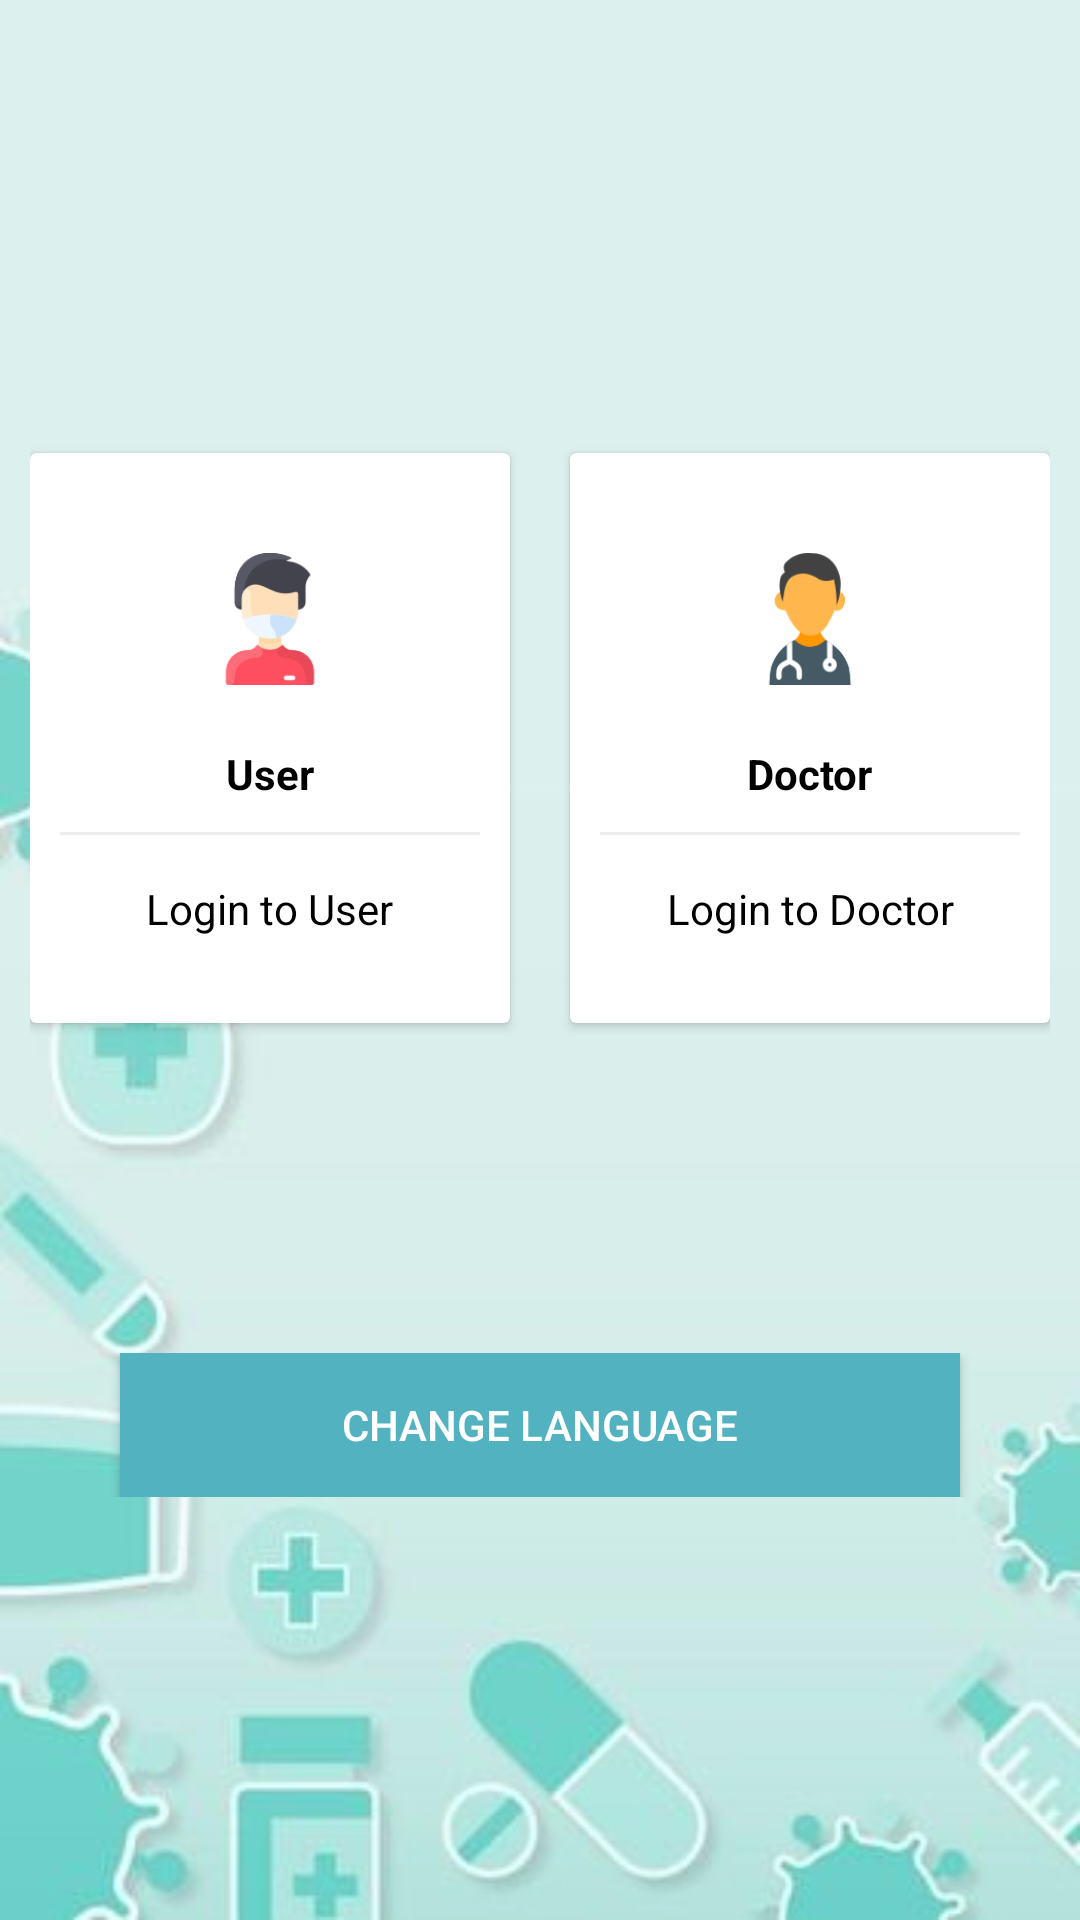

Point at icon controls on the screen. Image size 1080*1920, points as [x,y].
doc: [810,619]
